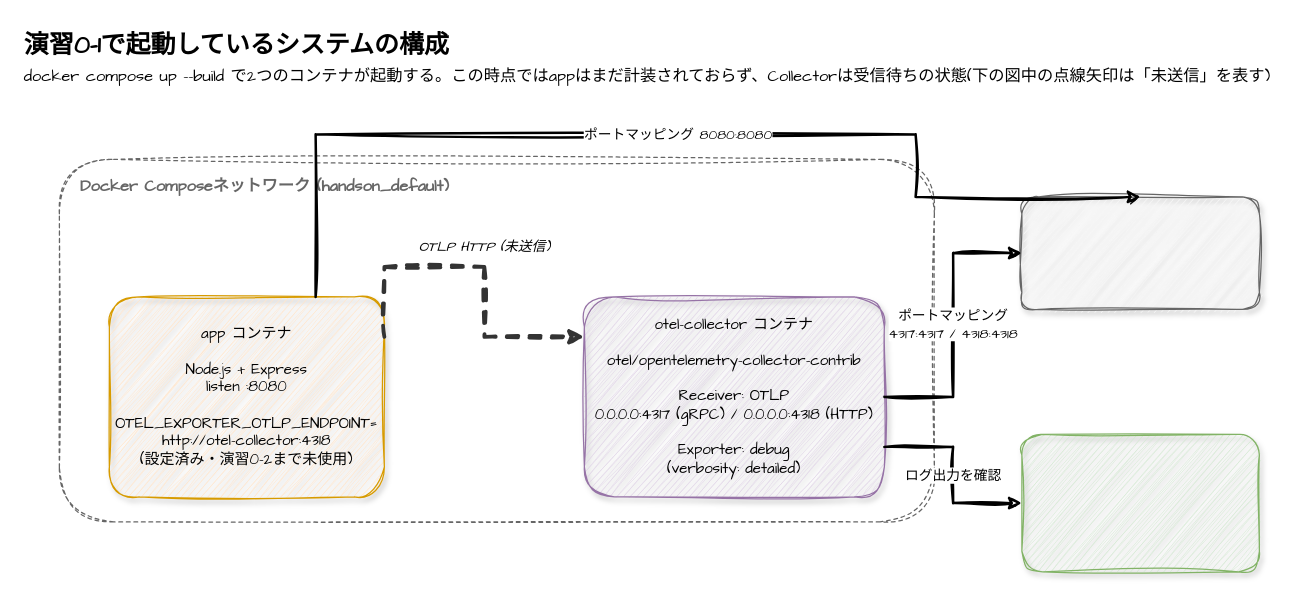
This 1291x603 diagram has some shape labels left out. Here are the shapes that lost their labels. From the top down, the centre of each, then its label:
At (1141,254): "ローカルPC 公開ポート: 8080 / 4317 / 4318".
At (1141,504): "ターミナル docker compose logs -f otel-collector".
